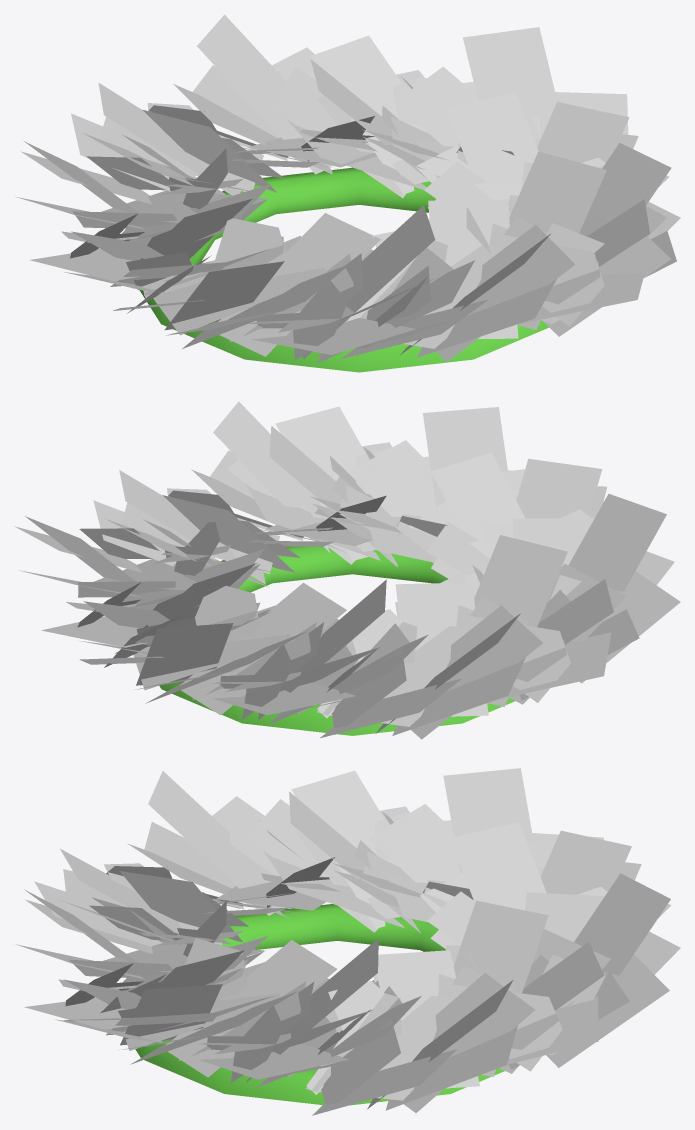
Rendered from Wreath.fbx.
3 views of the same model, one above another, from view 1: azimuth 30°, elevation 25°; view 2: azimuth 150°, elevation 25°; view 3: azimuth 270°, elevation 25° (orthographic). The views are drawn at different scales.
Parts seen in each view (by area): view 1: Plane.003; view 2: Plane.003; view 3: Plane.003.
Boxes of the visible parts, <box> form: Plane.003: <box>15,14,680,372</box>; Plane.003: <box>14,401,680,739</box>; Plane.003: <box>16,768,680,1115</box>.
Bounding box in the file's own units: 102 × 20.94 × 98.49.
